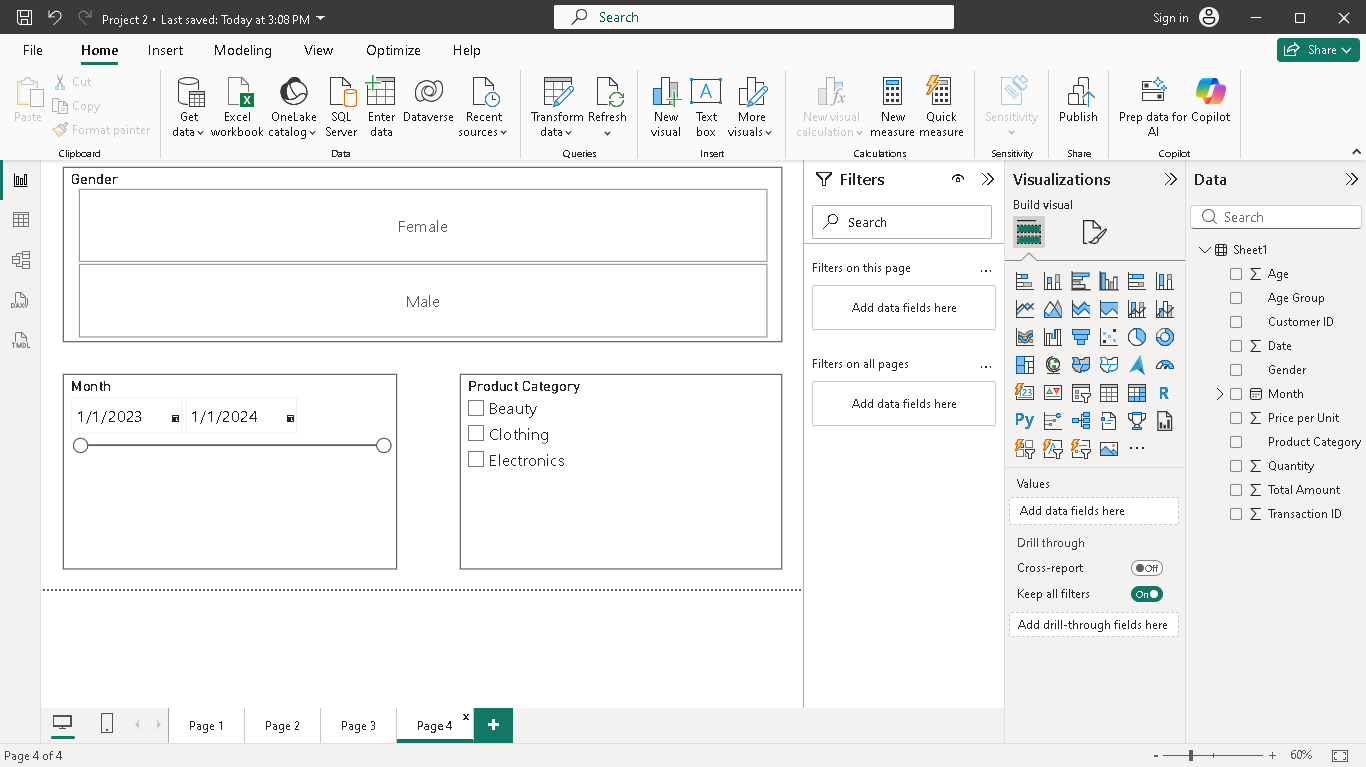

The page's visual inventory and layout, read from the dashboard file:
{"tool":"powerbi","page":{"name":"Page 4","canvas":[1280,720],"ordinal":3},"visuals":[{"type":"slicer","fields":{"Values":["Sheet1.Gender"]},"box":[37,11.8,1207.8,294],"z":0},{"type":"slicer","fields":{"Values":["Sheet1.Product Category"]},"box":[703.8,359.5,540.9,327.6],"z":1},{"type":"slicer","fields":{"Values":["Sheet1.Month"]},"box":[37,359.5,561,327.6],"z":2}]}

Visuals, with their boxes on the page's 1280x720 design canvas (x1, y1, x2, y2). These are canvas units, not pixel positions in the 1366x767 screenshot, which may show the page scaled, cropped or inside an application window:
slicer - Sheet1.Gender: left=37, top=12, right=1245, bottom=306
slicer - Sheet1.Product Category: left=704, top=360, right=1245, bottom=687
slicer - Sheet1.Month: left=37, top=360, right=598, bottom=687
